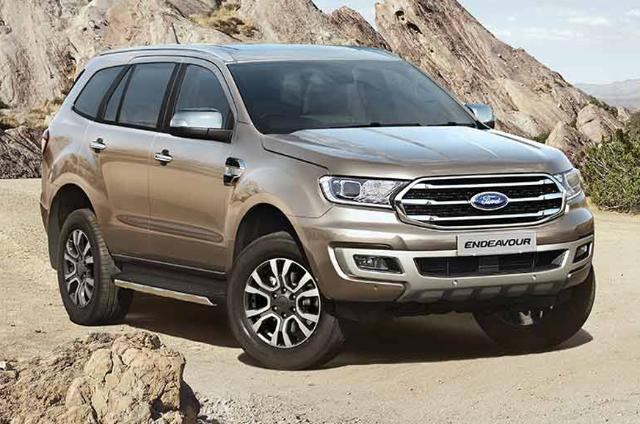ford: (39, 43, 595, 371)
